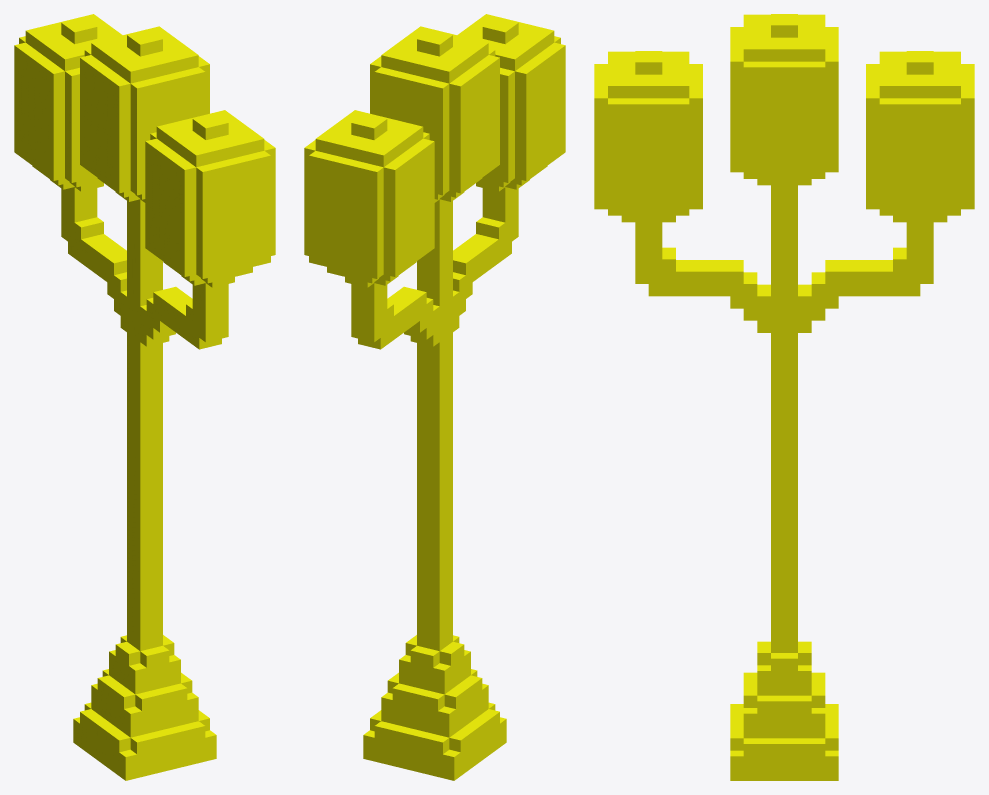
File: voxel-village-triple-lamppost.glb
3 views of the same model, side by side, from view 1: azimuth 30°, elevation 25°; view 2: azimuth 150°, elevation 25°; view 3: azimuth 270°, elevation 25° (orthographic). The views are drawn at different scales.
Parts seen in each view (by area): view 1: VS_Villagers_Triple_Lamppost; view 2: VS_Villagers_Triple_Lamppost; view 3: VS_Villagers_Triple_Lamppost.
Boxes of the visible parts, box(x1,y1,x2,y2) form: VS_Villagers_Triple_Lamppost: box(14, 14, 275, 780); VS_Villagers_Triple_Lamppost: box(304, 14, 565, 780); VS_Villagers_Triple_Lamppost: box(594, 14, 974, 780).
Bounding box in the file's own units: 0.7998 × 6 × 2.8.
